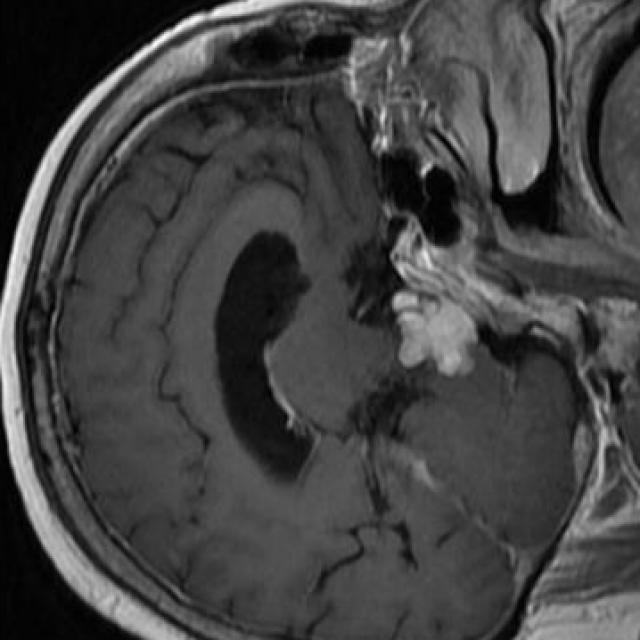meningioma: (390, 291, 478, 378)
